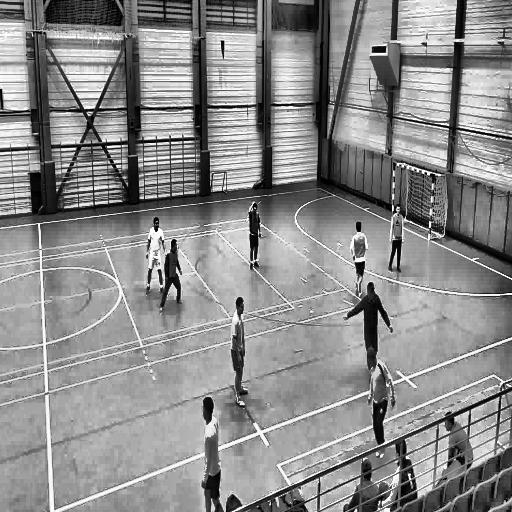ball: (359, 458, 368, 468)
player: (344, 282, 393, 370), (368, 348, 394, 458), (202, 395, 221, 512), (230, 296, 249, 412), (144, 218, 166, 299), (158, 239, 182, 313), (350, 220, 368, 302), (387, 204, 405, 274), (247, 202, 262, 270)
